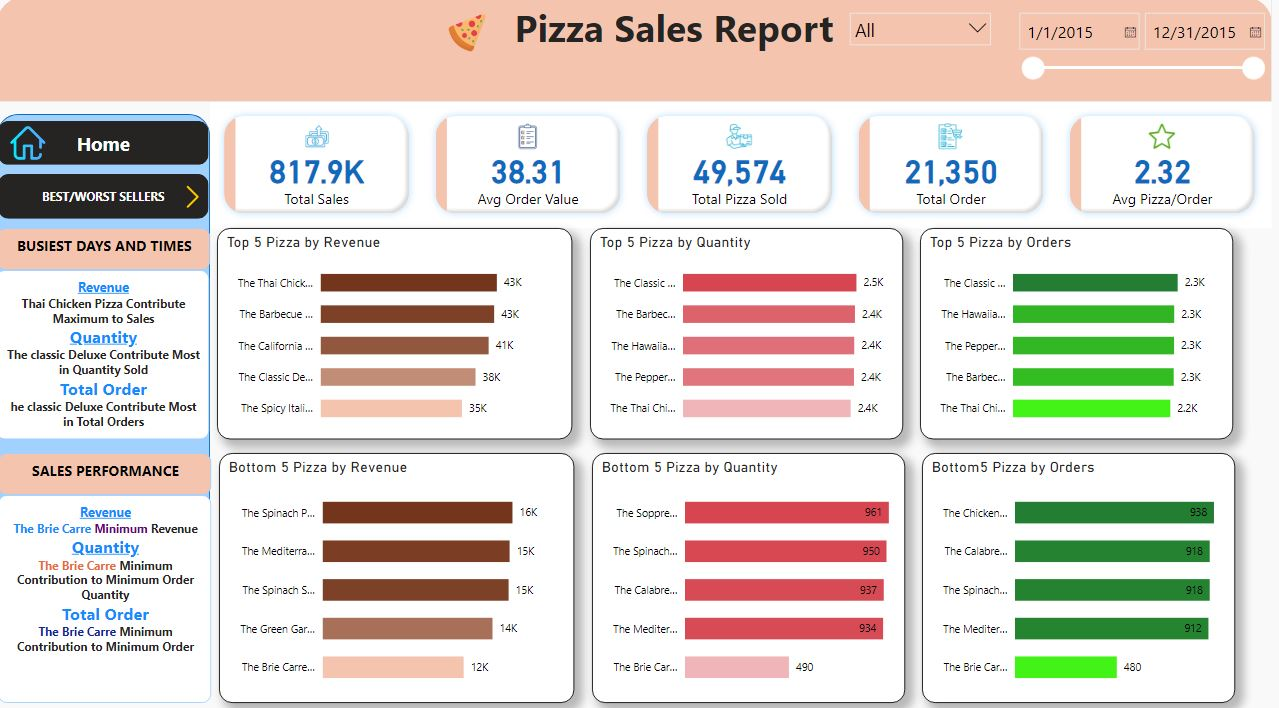

What the dashboard file says about the page in this screenshot:
{"tool":"powerbi","page":{"name":"BEST/WORST SELLERS","canvas":[1500,900],"ordinal":1},"visuals":[{"type":"shape","box":[11.4,142.5,242.8,650.8],"z":0},{"type":"shape","box":[11.4,9.1,1453.3,119.7],"z":500},{"type":"cardVisual","fields":{"Data":["Measures (2).Total Sales","Measures (2).Avg Order Value","Measures (2).Total Pizza Sold","Measures (2).Total Number of Orders","Measures (2).Avg Pizza/Order"]},"box":[254.2,128.8,1210.5,143.6],"z":1000},{"type":"barChart","title":"Top 5 Pizza by Revenue","fields":{"Y":["Measures (2).Total Sales"],"Category":["pizza_sales.pizza_name"]},"box":[262.2,272.4,404.6,240.5],"z":2000},{"type":"textbox","box":[596.1,9.1,406.9,67.2],"z":9000},{"type":"image","box":[499.2,22.8,96.9,53.6],"z":10000},{"type":"textbox","box":[12.5,528.9,242.8,47.9],"z":11000},{"type":"textbox","box":[10.3,320.3,242.8,192.6],"z":12000},{"type":"textbox","box":[11.4,272.4,242.8,47.9],"z":13000},{"type":"textbox","box":[12.5,576.7,242.8,237.1],"z":14000},{"type":"slicer","fields":{"Values":["pizza_sales.pizza_category"]},"box":[973.4,17.1,181.2,103.7],"z":15000},{"type":"slicer","fields":{"Values":["Date Table.Date"]},"box":[1163.8,17.1,300.9,111.7],"z":16000},{"type":"barChart","title":"Bottom 5 Pizza by Revenue","fields":{"Y":["Measures (2).Total Sales"],"Category":["pizza_sales.pizza_name"]},"box":[264.4,528.9,404.6,285],"z":16001},{"type":"barChart","title":"Top 5 Pizza by Quantity","fields":{"Category":["pizza_sales.pizza_name"],"Y":["Measures (2).Total Pizza Sold"]},"box":[687.3,272.4,356.8,240.5],"z":16002},{"type":"barChart","title":"Bottom 5 Pizza by Quantity","fields":{"Category":["pizza_sales.pizza_name"],"Y":["Measures (2).Total Pizza Sold"]},"box":[689.6,528.9,356.8,285],"z":16003},{"type":"barChart","title":"Top 5 Pizza by Orders","fields":{"Category":["pizza_sales.pizza_name"],"Y":["Measures (2).Total Number of Orders"]},"box":[1063.4,272.4,356.8,240.5],"z":16004},{"type":"barChart","title":"Bottom5 Pizza by Orders","fields":{"Category":["pizza_sales.pizza_name"],"Y":["Measures (2).Total Number of Orders"]},"box":[1065.7,528.9,356.8,285],"z":16005},{"type":"pageNavigator","box":[12.5,150.5,240.5,50.2],"z":16006},{"type":"pageNavigator","box":[12.5,210.9,240.5,51.3],"z":16007},{"type":"image","box":[20.5,150.5,51.3,50.2],"z":16008},{"type":"image","box":[215.4,218.8,37.6,36.5],"z":16009}]}

Visuals, with their boxes on the page's 1500x900 design canvas (x1, y1, x2, y2). These are canvas units, not pixel positions in the 1279x708 screenshot, which may show the page scaled, cropped or inside an application window:
shape: 11 142 254 793
shape: 11 9 1465 129
cardVisual - Measures (2).Total Sales x Measures (2).Avg Order Value: 254 129 1465 272
"Top 5 Pizza by Revenue" barChart: 262 272 667 513
textbox: 596 9 1003 76
image: 499 23 596 76
textbox: 12 529 255 577
textbox: 10 320 253 513
textbox: 11 272 254 320
textbox: 12 577 255 814
slicer - pizza_sales.pizza_category: 973 17 1155 121
slicer - Date Table.Date: 1164 17 1465 129
"Bottom 5 Pizza by Revenue" barChart: 264 529 669 814
"Top 5 Pizza by Quantity" barChart: 687 272 1044 513
"Bottom 5 Pizza by Quantity" barChart: 690 529 1046 814
"Top 5 Pizza by Orders" barChart: 1063 272 1420 513
"Bottom5 Pizza by Orders" barChart: 1066 529 1422 814
pageNavigator: 12 150 253 201
pageNavigator: 12 211 253 262
image: 20 150 72 201
image: 215 219 253 255
